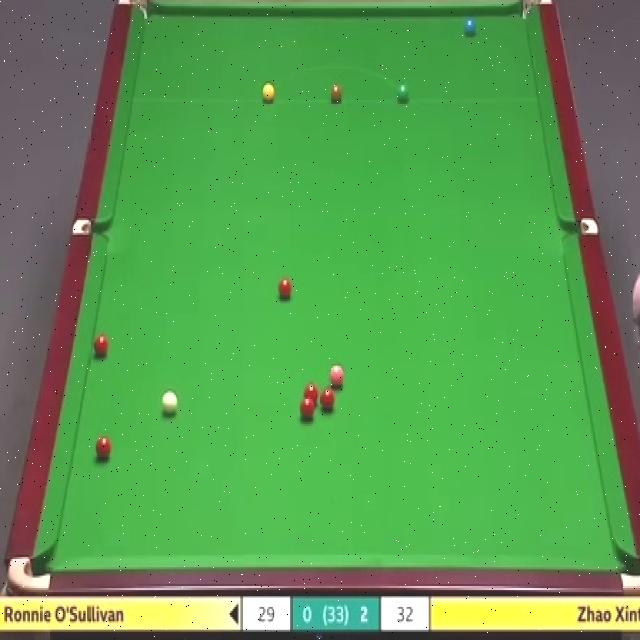blue-ball: (465, 18, 475, 39)
brown-ball: (329, 86, 343, 102)
green-ball: (396, 81, 411, 106)
pink-ball: (328, 363, 345, 388)
red-ball: (91, 333, 110, 359), (95, 433, 112, 462), (320, 388, 336, 412), (276, 278, 293, 298), (304, 383, 318, 407), (300, 397, 315, 419)
white-ball: (160, 391, 178, 416)
yellow-ball: (261, 82, 276, 104)
